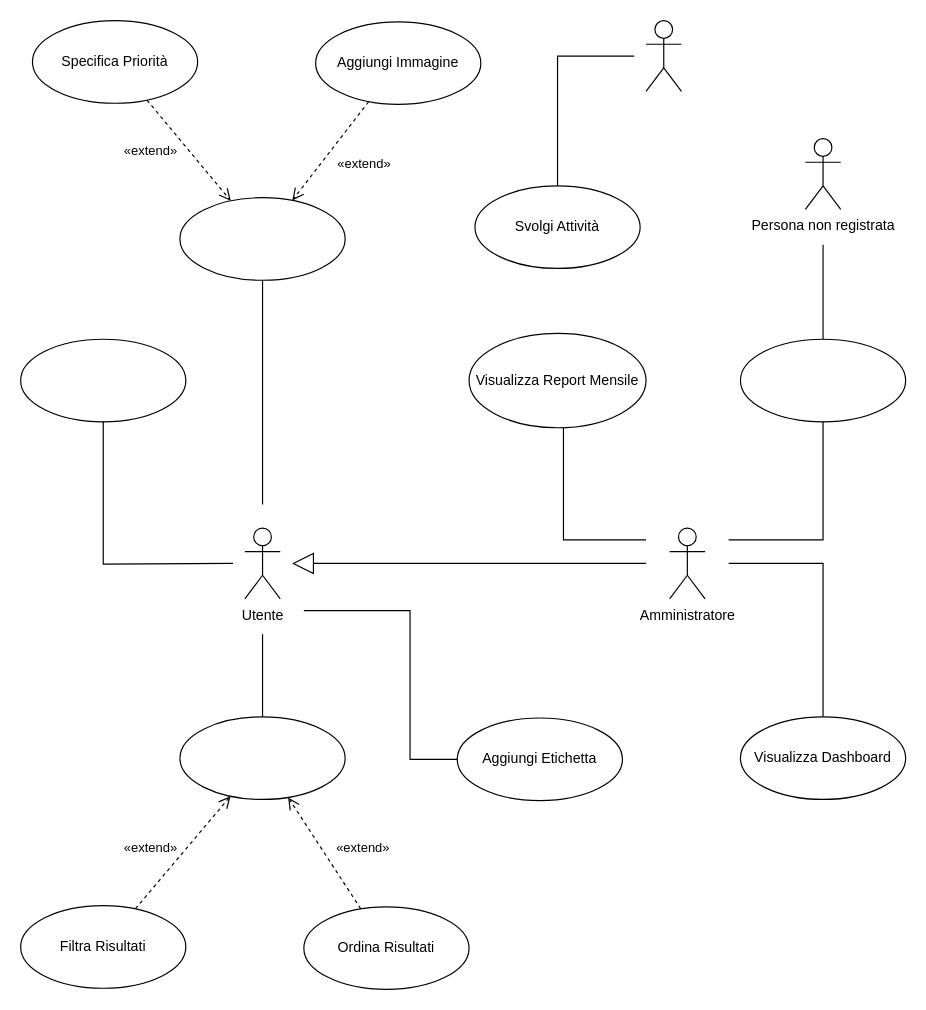
Image size: 926x1010. Some labels were removed from this diagram. Here are the shapes that lost their labels. From the top down, the box of each, then its label:
(645, 19, 681, 91): Team
(179, 196, 345, 280): Segnala un Issue
(19, 338, 186, 422): Accedi alla Piattaforma
(739, 338, 906, 422): Crea Nuova Utenza
(179, 716, 345, 799): Visualizza Riepilogo
